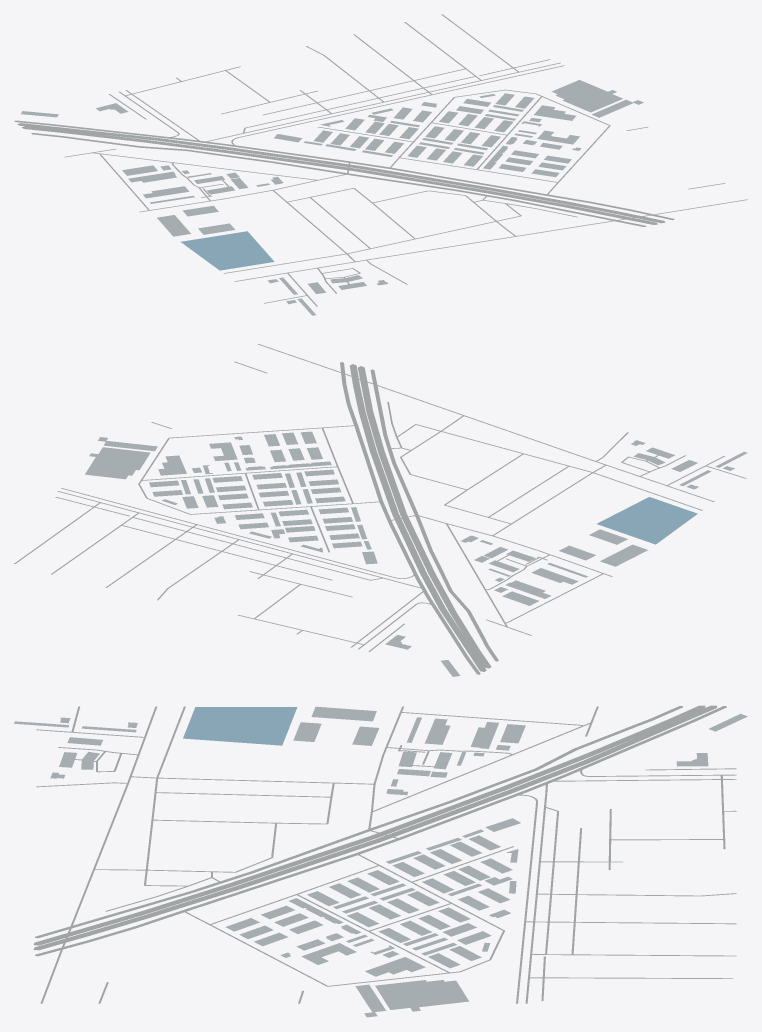
File: -20_24-known-fine.glb
3 renders of one model, top to bottom at view 1: azimuth 30°, elevation 25°; view 2: azimuth 150°, elevation 25°; view 3: azimuth 270°, elevation 25°, orthographic. The views are drawn at different scales.
Bounding box in the file's own units: 1051 × 0.15 × 1044.
